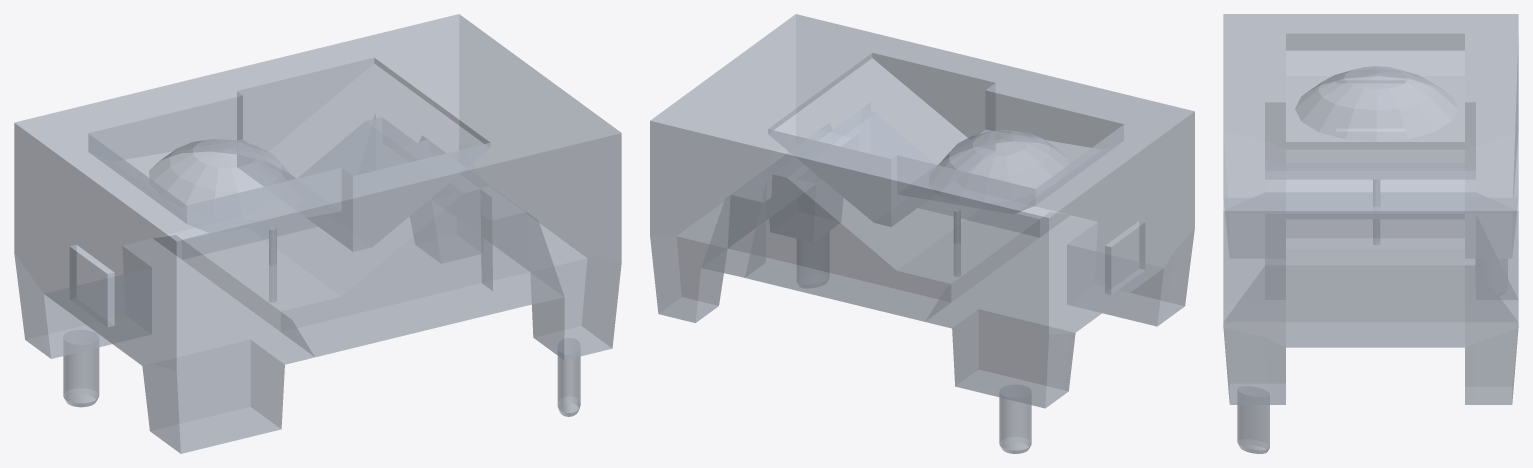
The model's file is LM18-LSI.fbx.
3 views of the same model, side by side, from view 1: azimuth 30°, elevation 25°; view 2: azimuth 150°, elevation 25°; view 3: azimuth 270°, elevation 25° (orthographic). The views are drawn at different scales.
Parts seen in each view (by area): view 1: LM18-LSI; view 2: LM18-LSI; view 3: LM18-LSI.
Part boxes in pixels (left/top/right/bottom): LM18-LSI: left=14, top=14, right=621, bottom=453; LM18-LSI: left=650, top=14, right=1194, bottom=453; LM18-LSI: left=1223, top=14, right=1518, bottom=453.
Size of the model in its own units: 0.013 by 0.00772 by 0.00812.
